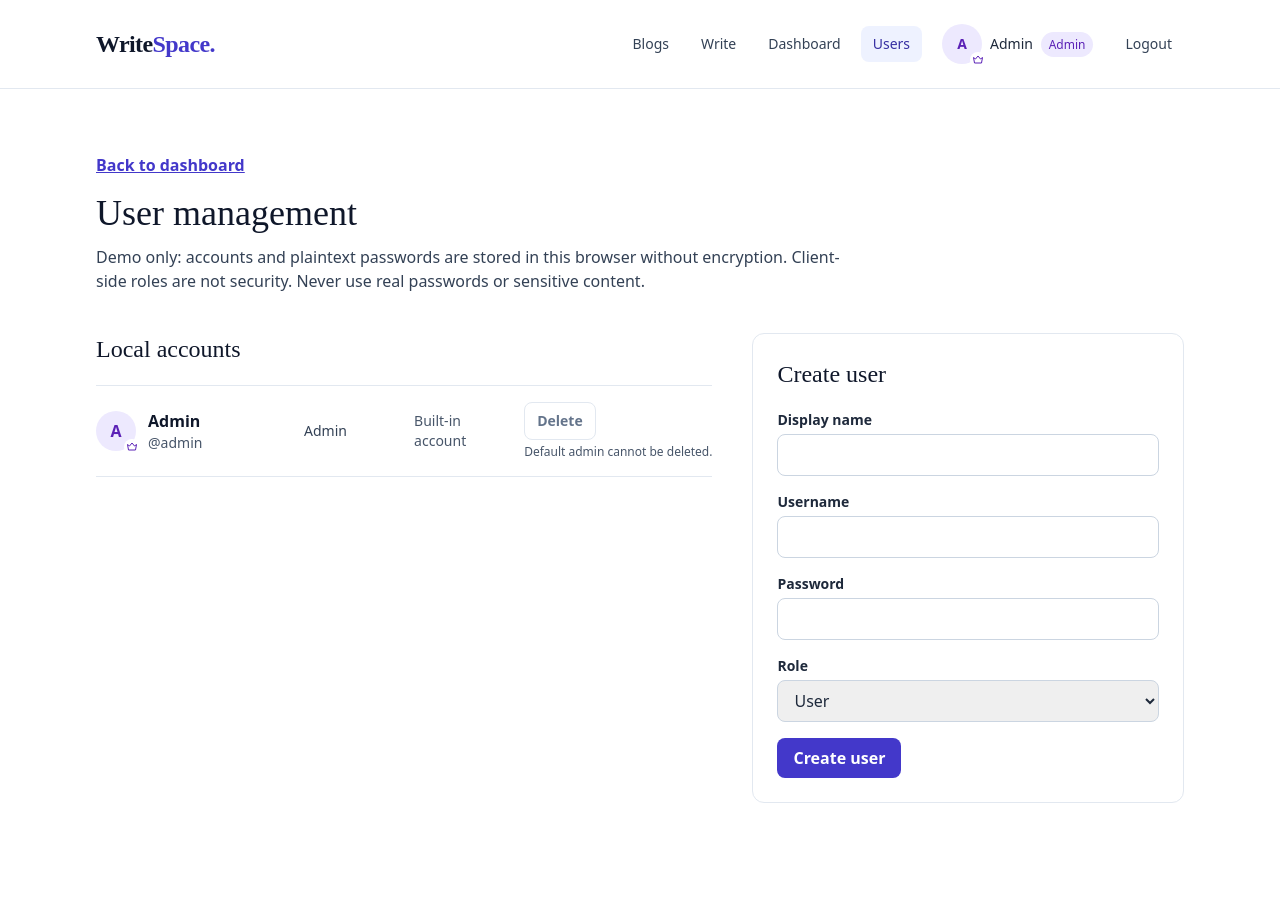
local accounts › keeps form values and reports write failure without a success message
Type "Example" into the field labelled "Display name" at (968, 455), box [778,434,1159,476]
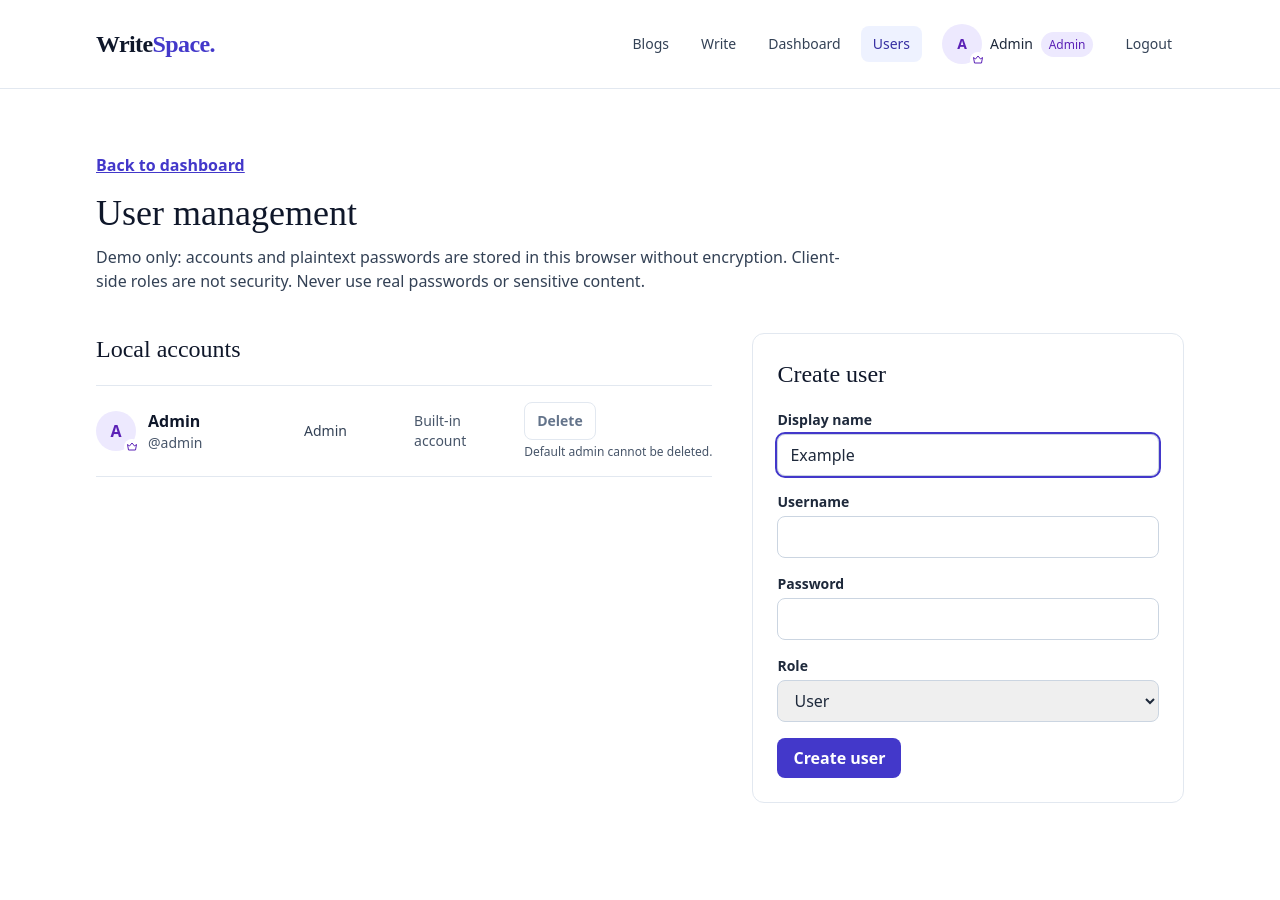
Type "example" into the field labelled "Username" at (968, 537), box [778,516,1159,558]
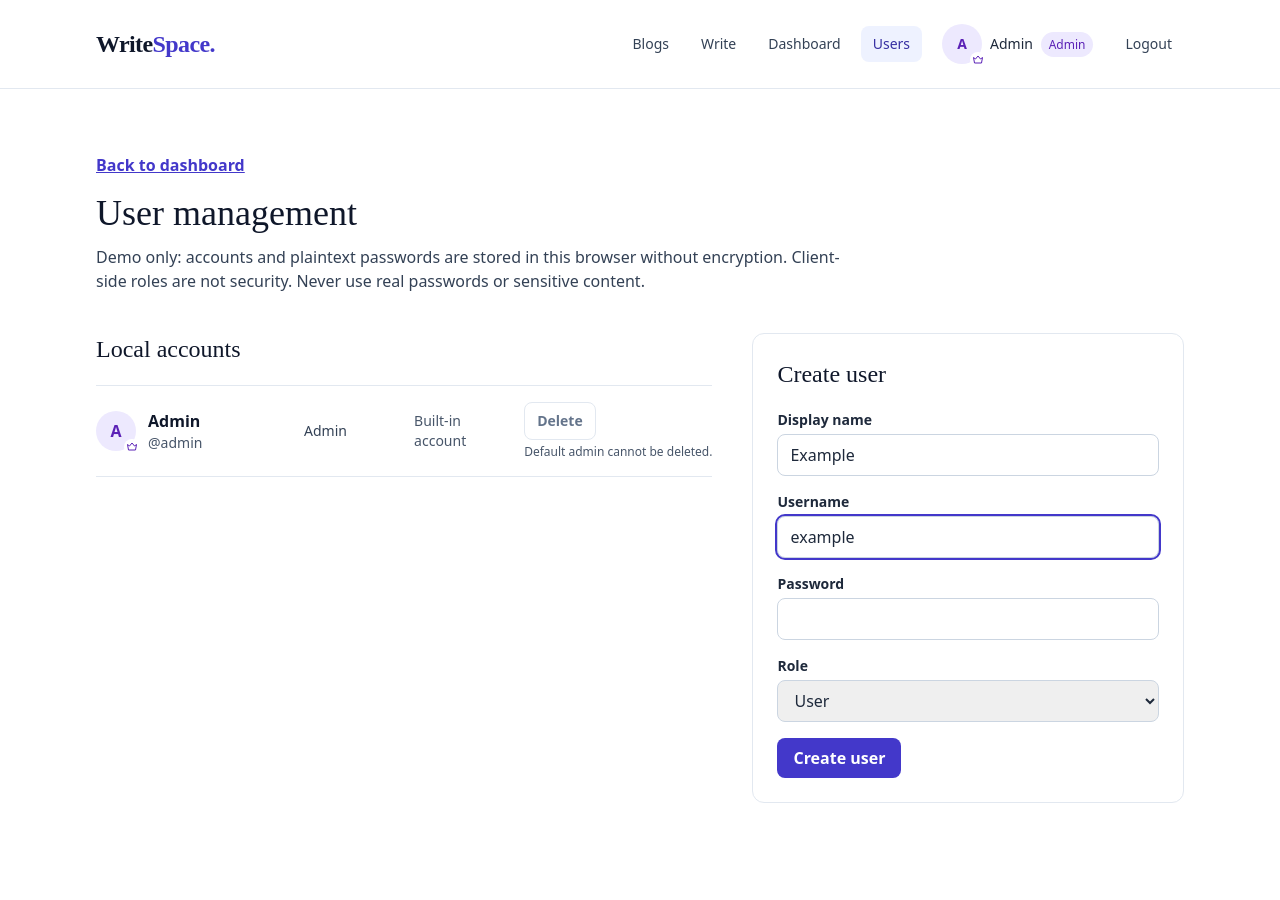
Type "demo" into the password field labelled "Password" at (968, 619), box [778,598,1159,640]
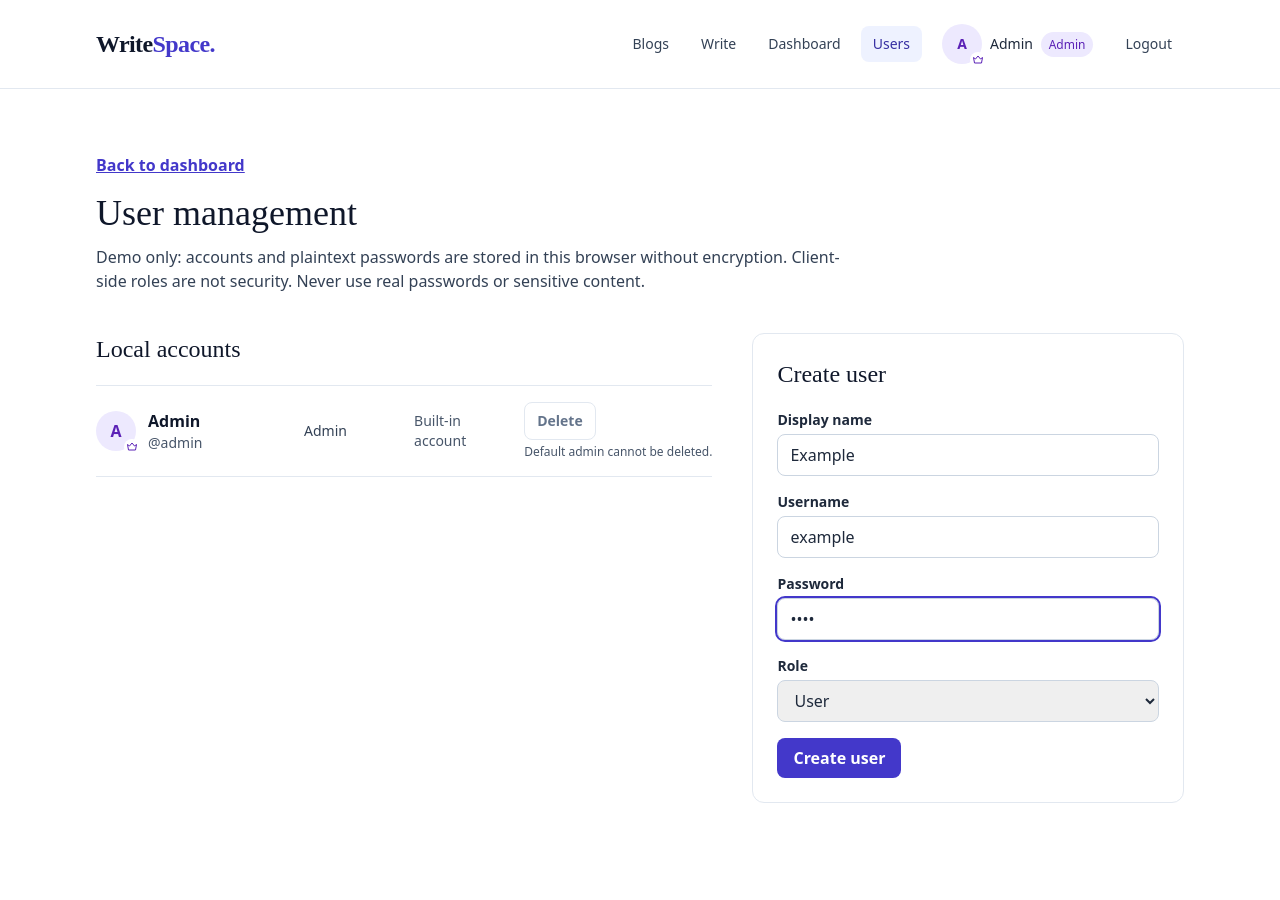
Click the button "Create user" at (840, 758), box [778,738,902,778]
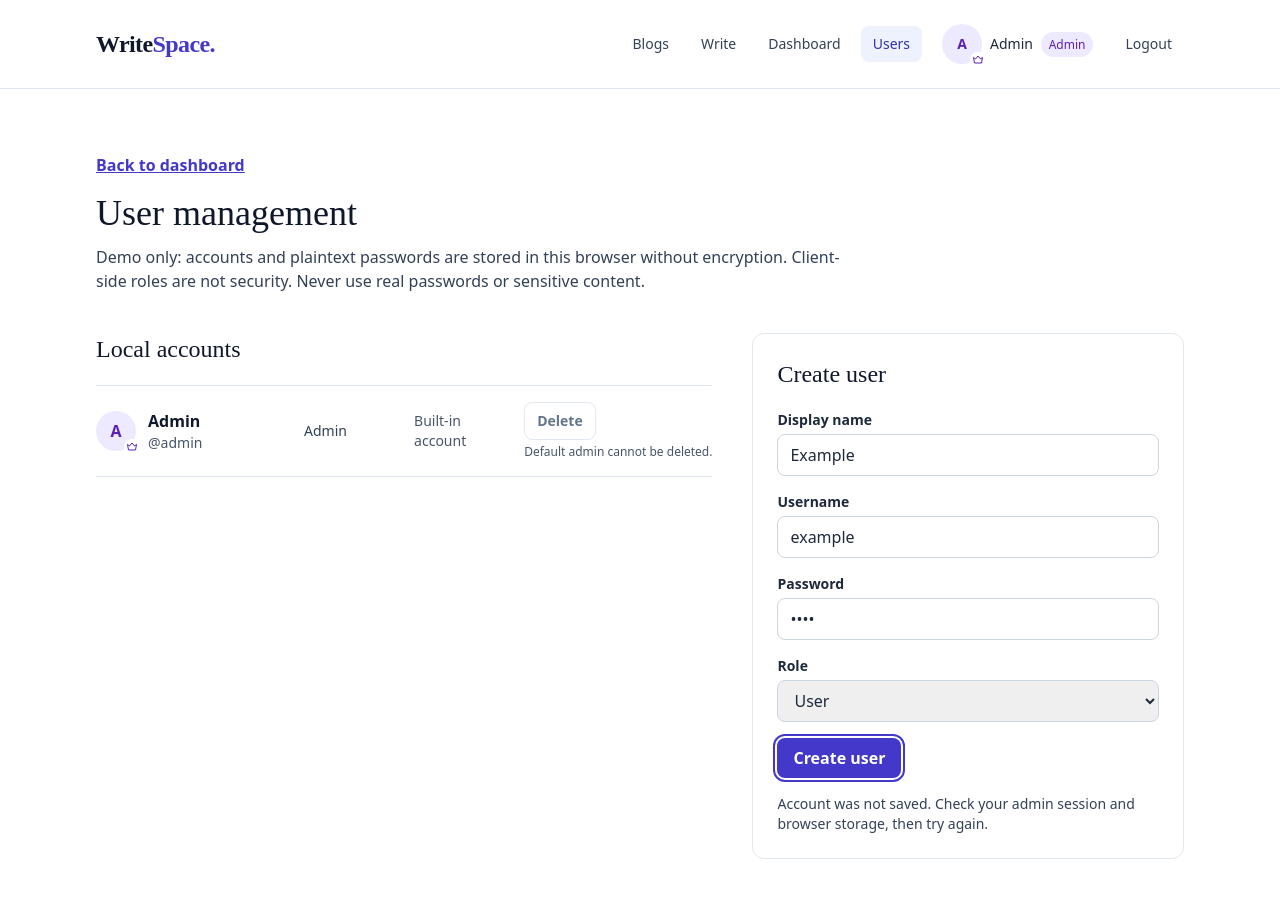
expect the text "Account was not saved" is shown: met, box [778,794,1135,833]
